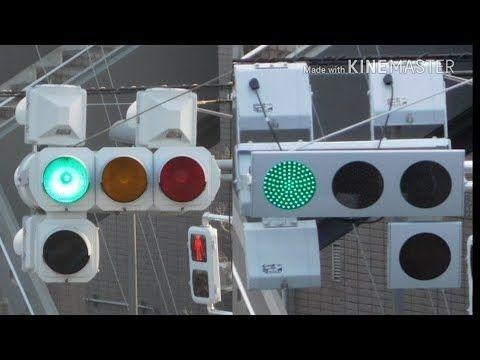green: (20, 146, 231, 215)
